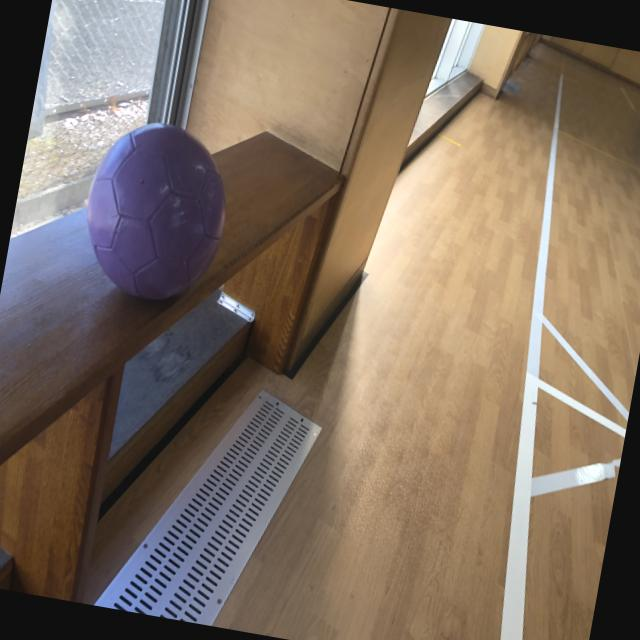purple_ball: (75, 112, 237, 308)
